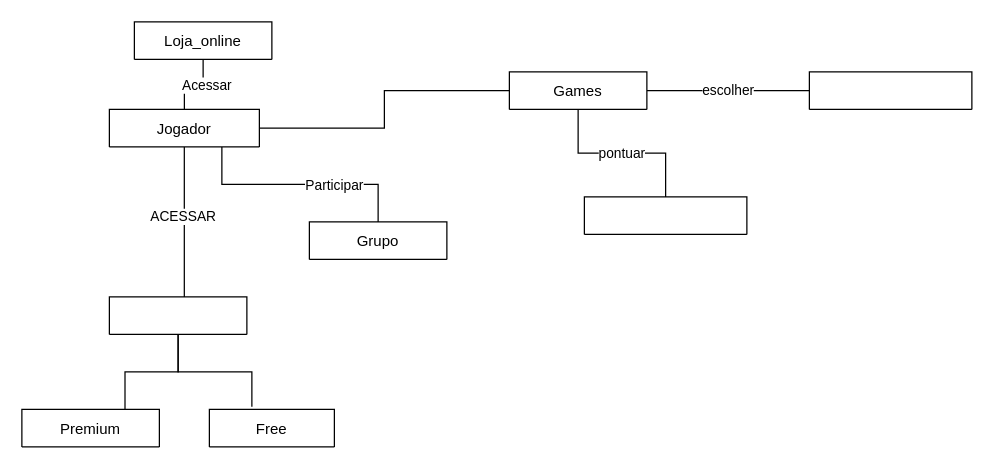
Some shapes in this 994 by 469 pixel diagram are drawn without their labels. The shapes that lost their labels are listed below. From the top down, each one's centre as x and y in pixels, then its label:
At point 890,90: "Tipo_Game".
At point 665,215: "Pontuação".
At point 177,315: "Conta".
